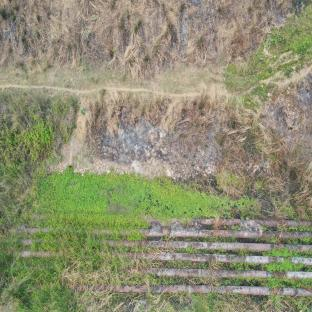vegetation: (7, 100, 242, 222)
